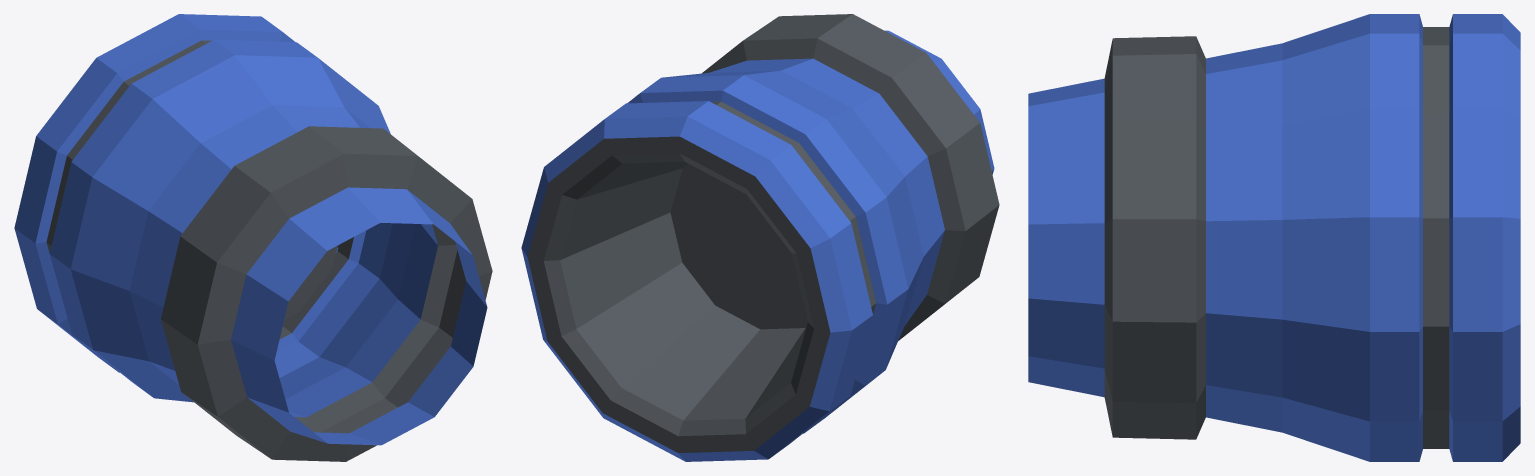
The model's file is Mothership_01_Thruster_Blue.fbx.
3 views of the same model, side by side, from view 1: azimuth 30°, elevation 25°; view 2: azimuth 150°, elevation 25°; view 3: azimuth 270°, elevation 25° (orthographic). The views are drawn at different scales.
Visible parts, largest first — view 1: Mothership_01_Thruster_Blue; view 2: Mothership_01_Thruster_Blue; view 3: Mothership_01_Thruster_Blue.
Boxes of the visible parts, box(x1,y1,x2,y2) form: Mothership_01_Thruster_Blue: box(14, 14, 492, 461); Mothership_01_Thruster_Blue: box(521, 14, 999, 461); Mothership_01_Thruster_Blue: box(1028, 14, 1520, 461).
Size of the model in its own units: 734 by 734 by 804.
1 material, 1 textured.
